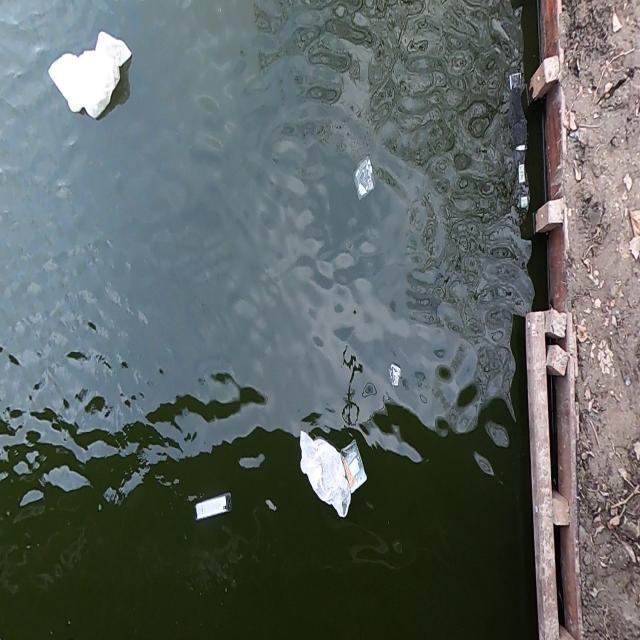Autre plastique: (337, 431, 378, 503)
Sac plastique: (45, 26, 136, 129), (287, 420, 357, 531), (349, 150, 379, 211)
